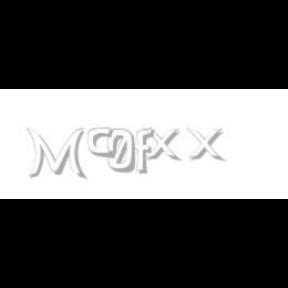0: (107, 128, 138, 174)
M: (25, 128, 84, 180)
c: (88, 128, 116, 160)
f: (134, 128, 158, 174)
x: (143, 128, 185, 162), (186, 128, 228, 162)
